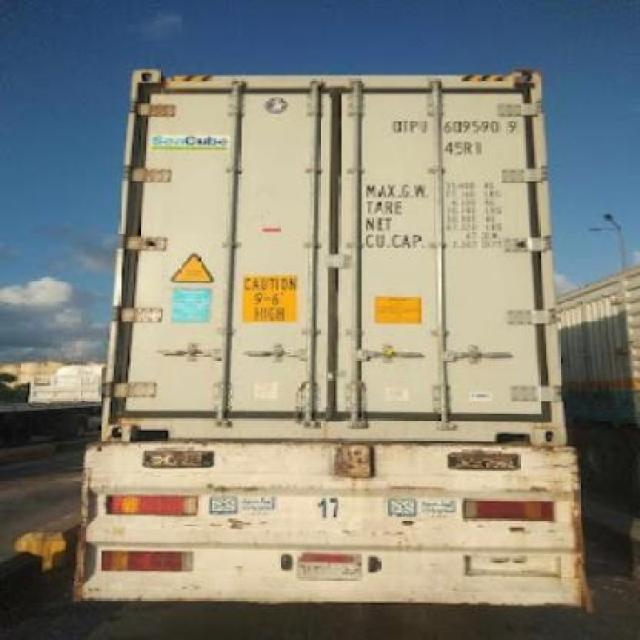ISO: (440, 140, 486, 158)
container_number: (390, 116, 516, 136)
